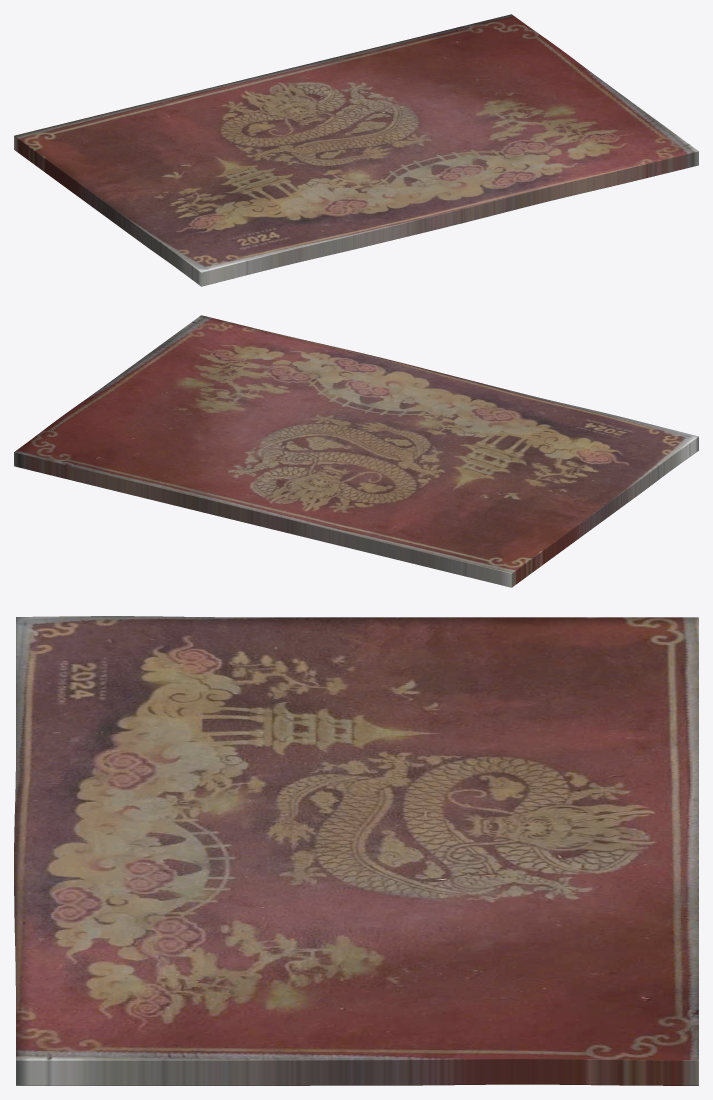
Rendered from Carpet.fbx.
3 renders of one model, top to bottom at view 1: azimuth 30°, elevation 25°; view 2: azimuth 150°, elevation 25°; view 3: azimuth 270°, elevation 25°, orthographic. The views are drawn at different scales.
Parts seen in each view (by area): view 1: Plane; view 2: Plane; view 3: Plane.
Part boxes in pixels (bbox=[...]): Plane: bbox=[14, 14, 698, 286]; Plane: bbox=[14, 315, 698, 587]; Plane: bbox=[14, 616, 698, 1085].
Size of the model in its own units: 295 by 11.39 by 193.
